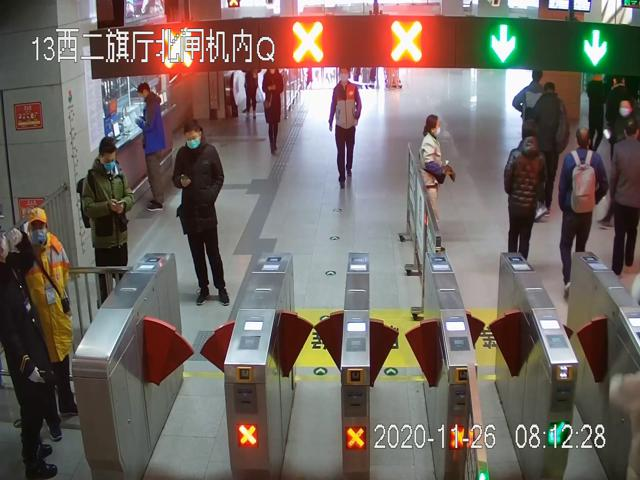person: (24, 208, 81, 440), (172, 118, 231, 307), (78, 137, 133, 306), (557, 127, 610, 291), (504, 120, 547, 264), (417, 114, 457, 232), (134, 81, 167, 212), (329, 67, 362, 186)
